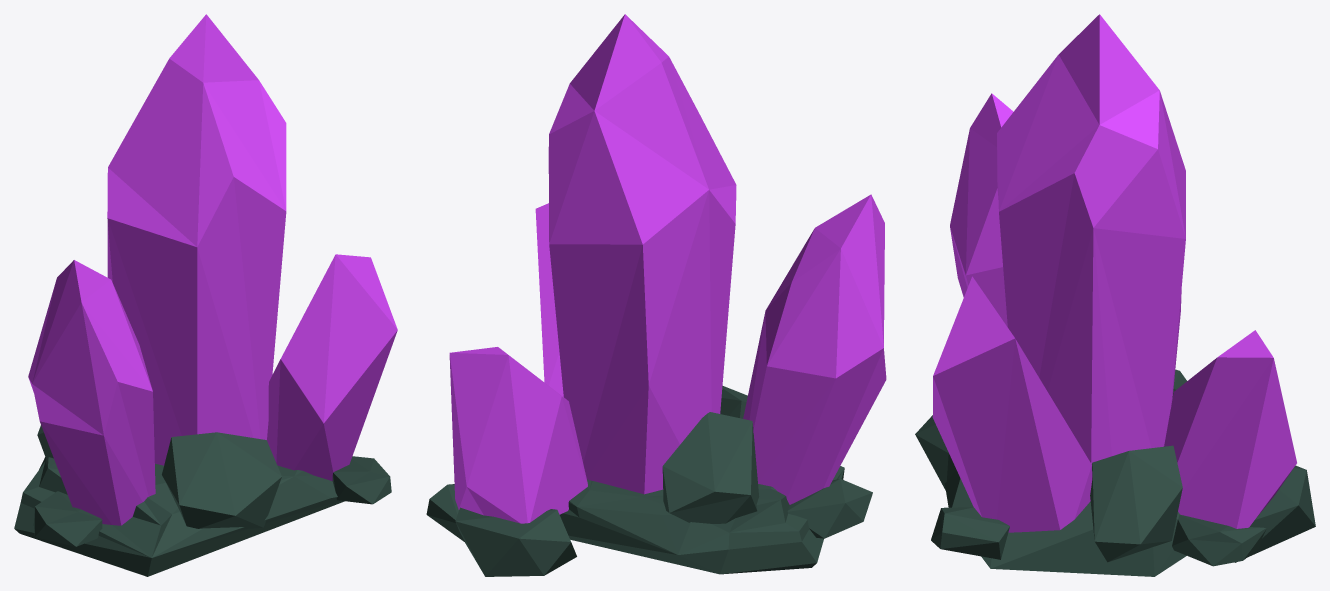
File: Gem_02.FBX
The picture shows the model from 3 angles, left to right: view 1: azimuth 30°, elevation 25°; view 2: azimuth 150°, elevation 25°; view 3: azimuth 270°, elevation 25°; orthographic projection. The views are drawn at different scales.
Visible parts, largest first — view 1: Gem_02; view 2: Gem_02; view 3: Gem_02.
Part boxes in pixels (box(x1,y1,x2,y2)): Gem_02: box(14, 14, 397, 576); Gem_02: box(426, 14, 886, 576); Gem_02: box(915, 14, 1315, 576).
Size of the model in its own units: 49.8 by 67.11 by 47.72.
